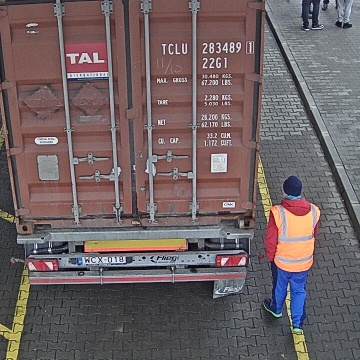serial_id: (161, 42, 253, 55)
